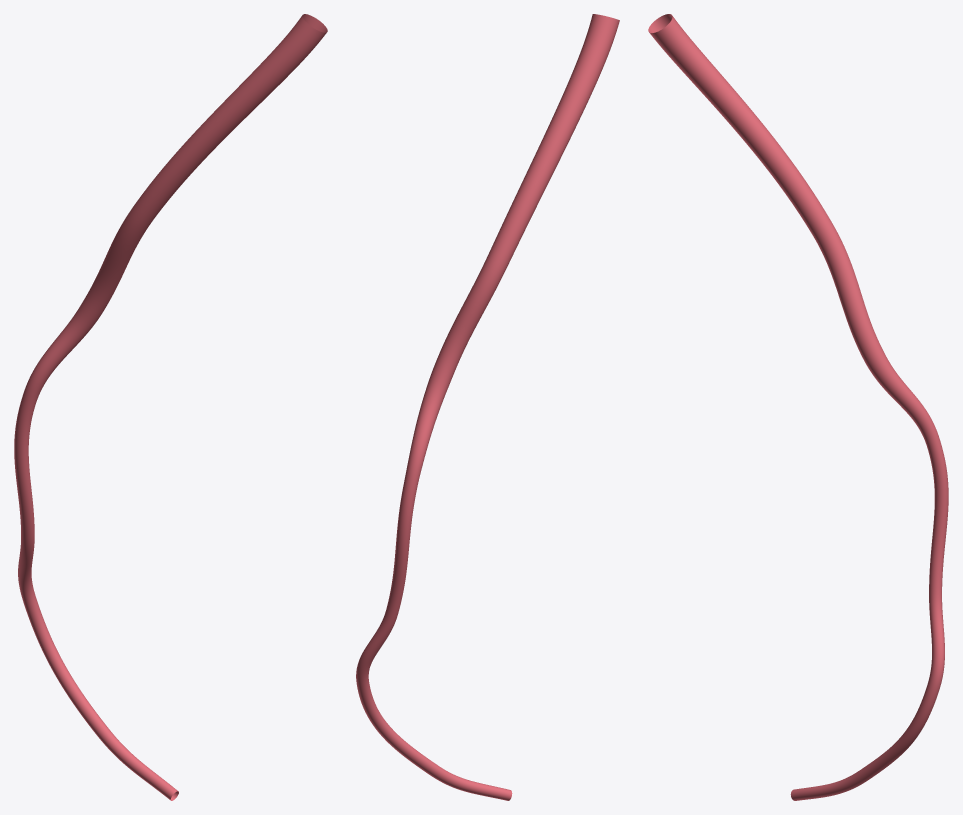
3 views of the same model, side by side, from view 1: azimuth 90°, elevation 25°; view 2: azimuth 150°, elevation 25°; view 3: azimuth 270°, elevation 25° (orthographic). The views are drawn at different scales.
Parts seen in each view (by area): view 1: ZA_cebeb727bc57fe70; view 2: ZA_cebeb727bc57fe70; view 3: ZA_cebeb727bc57fe70.
Boxes of the visible parts, x1,y1,x2,y2 form: ZA_cebeb727bc57fe70: (14,14,327,800); ZA_cebeb727bc57fe70: (356,14,619,800); ZA_cebeb727bc57fe70: (648,14,948,800).
Bounding box in the file's own units: 0.02 × 0.112 × 0.0397.
